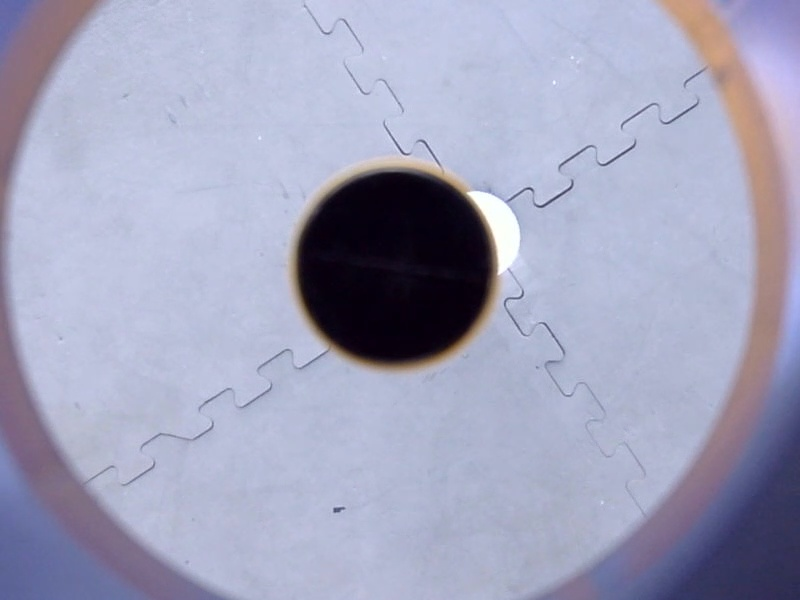tip: (279, 150, 513, 384)
